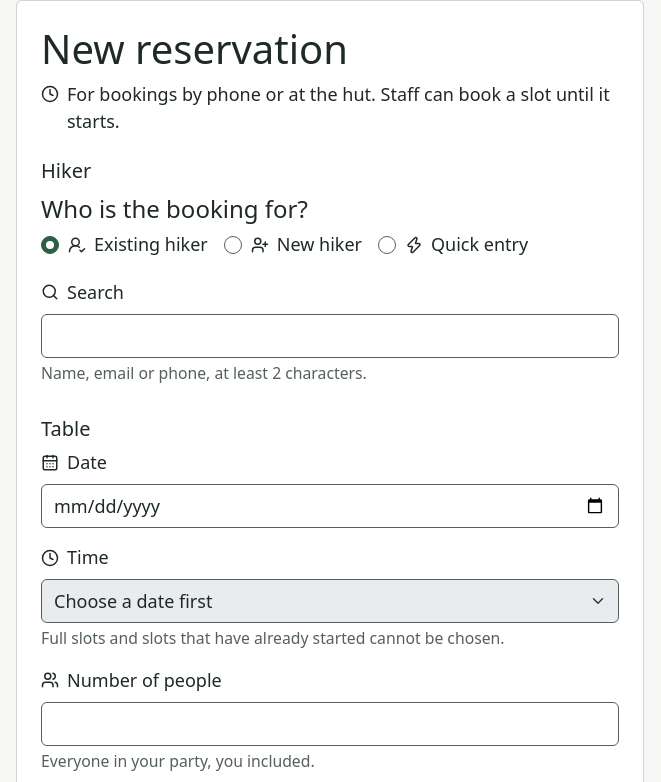
Test: R2 who the booking is for › offers three ways: Existing hiker, New hiker, Quick entry, each with its own fields
What coordinates should you click on to do the following:
click the radio button labelled "Existing hiker"
I would click on:
 (50, 244)
Its box is [41,236,59,254].
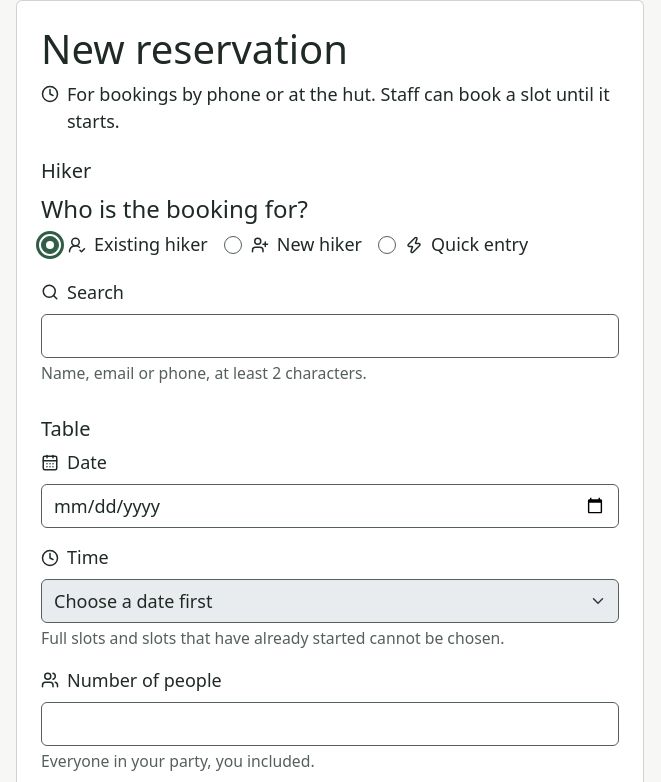
Expected: the search field labelled "Search" is shown, [41,314,619,358]
Expected: the field labelled "First name" is not shown
What coordinates should you click on to do the following:
click the radio button labelled "New hiker"
I would click on:
 (233, 244)
Its box is [224,236,242,254].
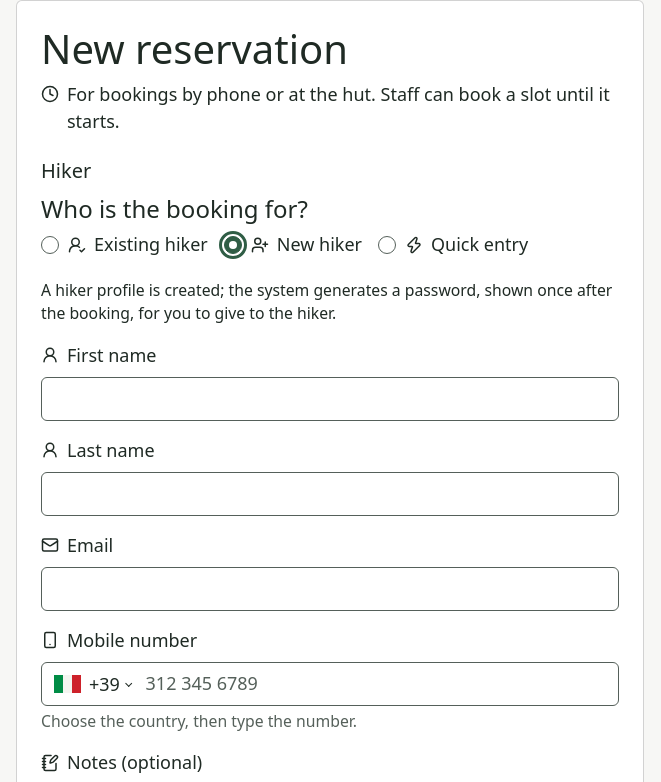
Expected: the radio button labelled "New hiker" is checked, [224,236,242,254]
Expected: the field labelled "Email" is shown, [41,567,619,611]
What coordinates should you click on to do the following:
click the radio button labelled "Quick entry"
I would click on:
 (387, 244)
Its box is [378,236,396,254].
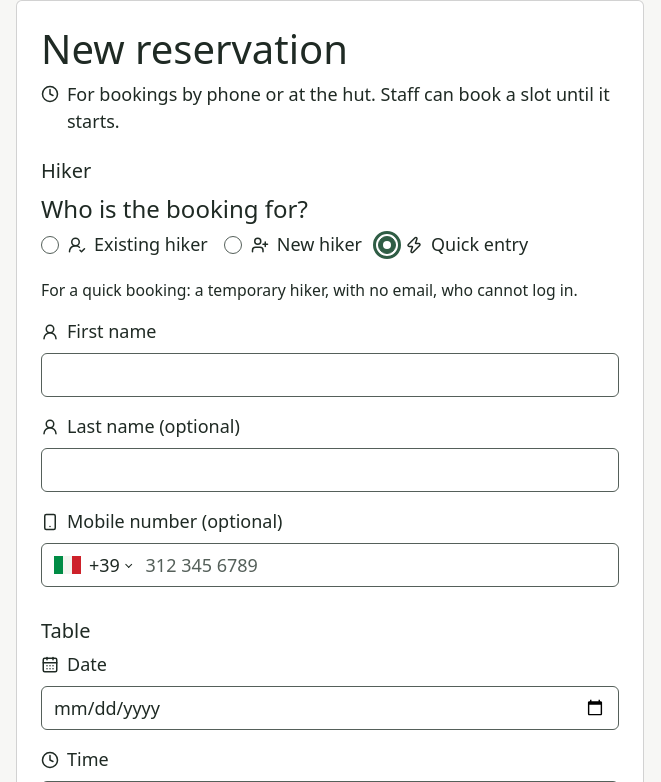
Expected: the field labelled "First name" is shown, [41,353,619,397]
